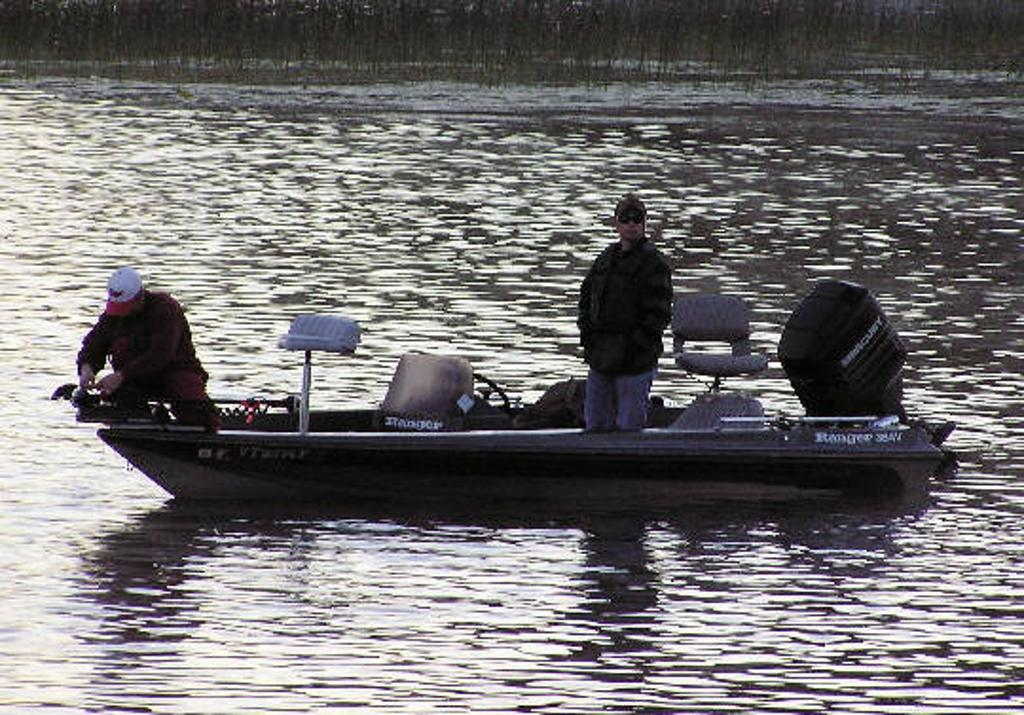face: (619, 208, 645, 239)
